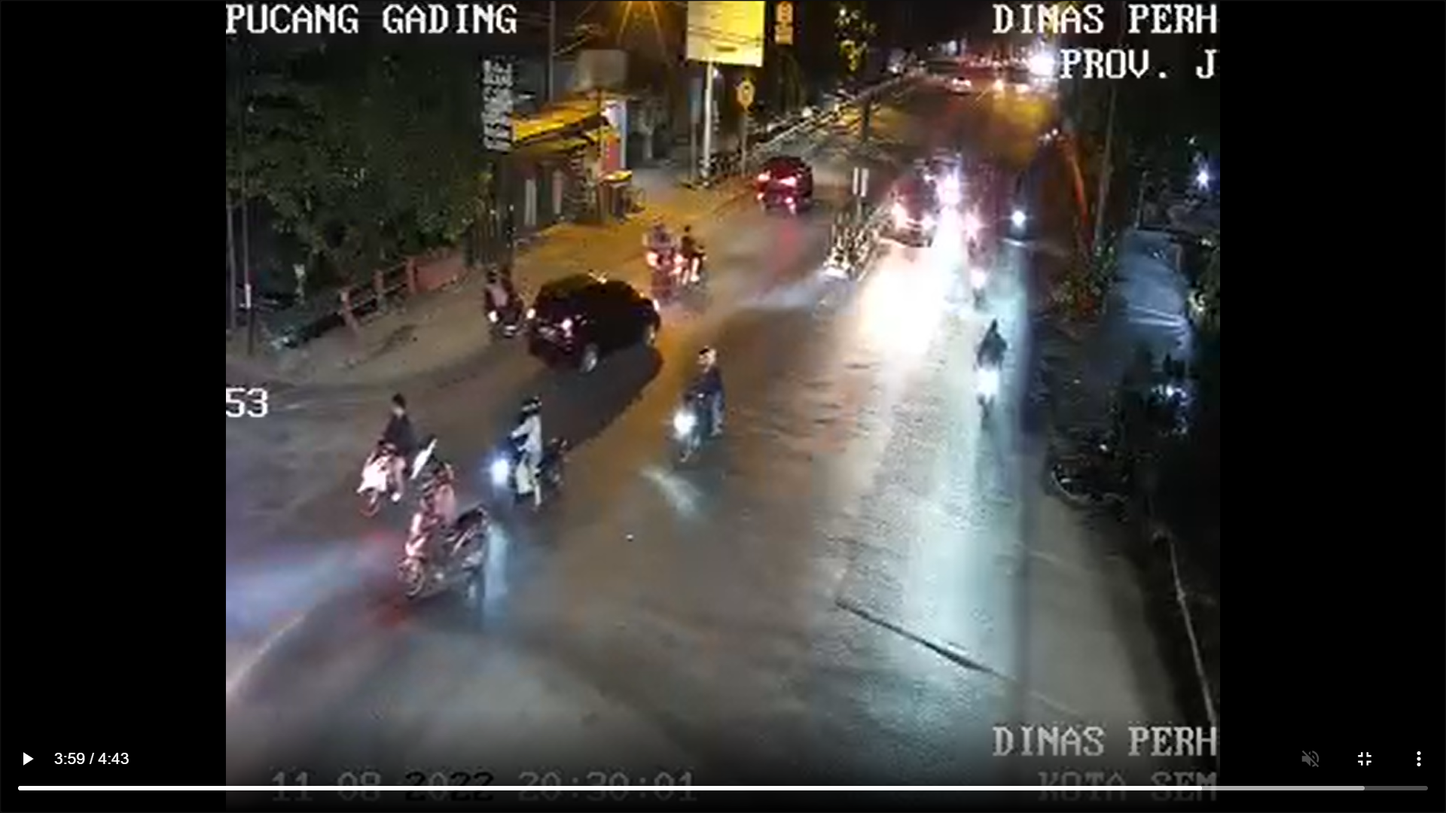with_helmet: (394, 457, 494, 605), (484, 392, 576, 516), (663, 332, 739, 471)
without_helmet: (348, 387, 455, 523), (633, 204, 715, 308), (479, 261, 548, 347)
